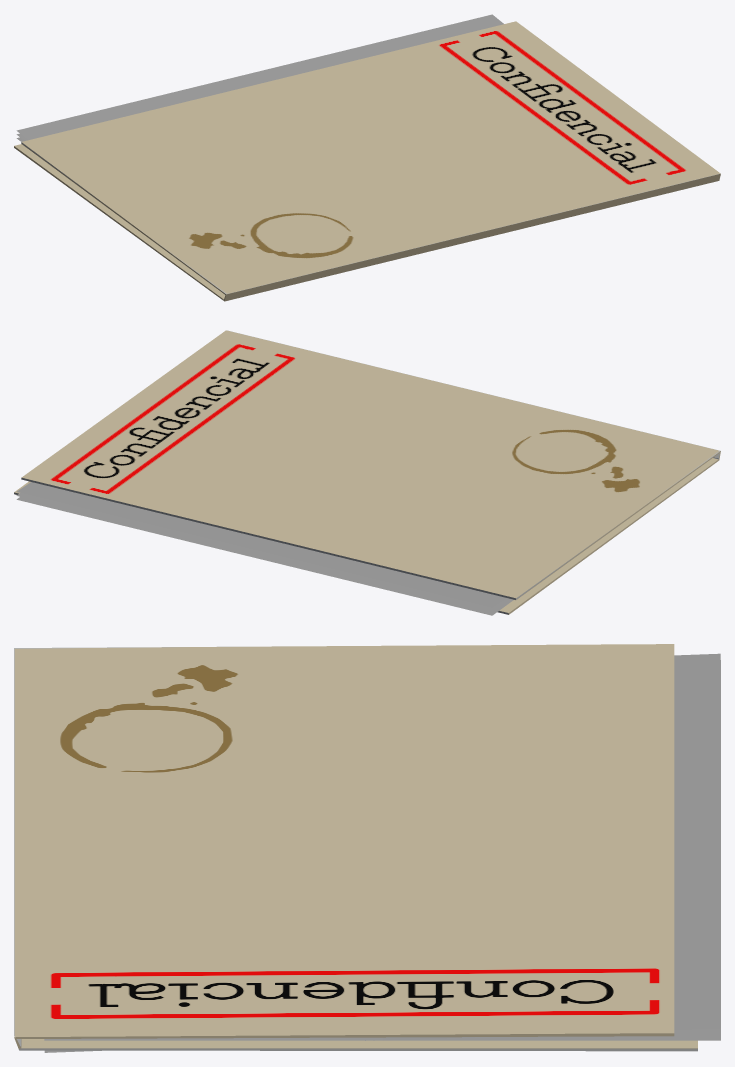
File: Confidencial_Albert.fbx
The picture shows the model from 3 angles, top to bottom: view 1: azimuth 30°, elevation 25°; view 2: azimuth 150°, elevation 25°; view 3: azimuth 270°, elevation 25°; orthographic projection. The views are drawn at different scales.
Parts seen in each view (by area): view 1: Plane, Plane.001; view 2: Plane, Plane.001; view 3: Plane, Plane.001.
Boxes of the visible parts, x1,y1,x2,y2 form: Plane: (14, 21, 720, 301); Plane.001: (16, 14, 503, 141); Plane: (14, 330, 720, 614); Plane.001: (16, 482, 513, 615); Plane: (14, 644, 697, 1051); Plane.001: (44, 653, 720, 1052).
Size of the model in its own units: 272 by 8.85 by 209.
2 materials, 1 textured.
